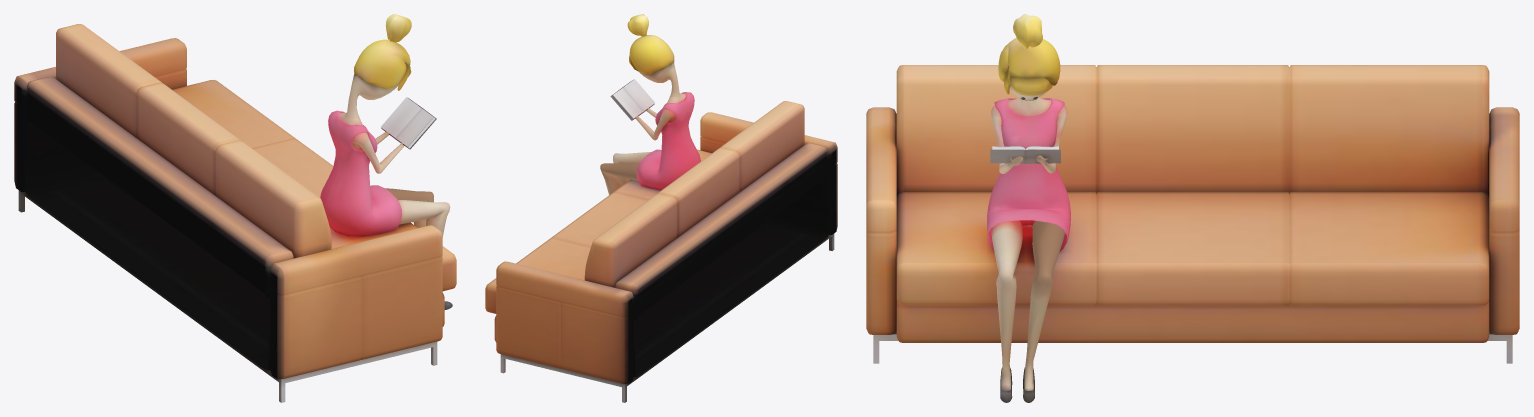
Rendered from GIRL.glb.
The picture shows the model from 3 angles, left to right: view 1: azimuth 30°, elevation 25°; view 2: azimuth 150°, elevation 25°; view 3: azimuth 270°, elevation 25°; orthographic projection. The views are drawn at different scales.
Parts seen in each view (by area): view 1: Tex_02_002.001; view 2: Tex_02_002.001; view 3: Tex_02_002.001.
Part boxes in pixels (x1=…): Tex_02_002.001: x1=14, y1=14, x2=456, y2=402; Tex_02_002.001: x1=485, y1=14, x2=837, y2=402; Tex_02_002.001: x1=866, y1=14, x2=1519, y2=402.
Size of the model in its own units: 133 by 165 by 270.
Materials: 1 (1 with a texture image).
